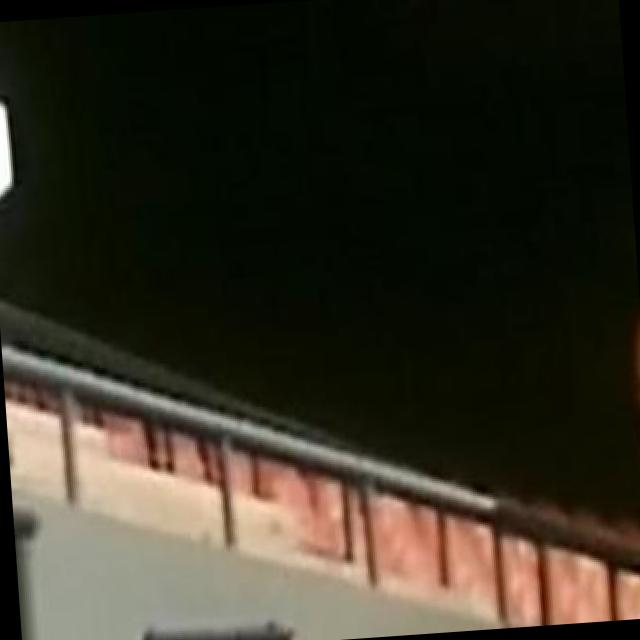Guns: (120, 571, 342, 640)
